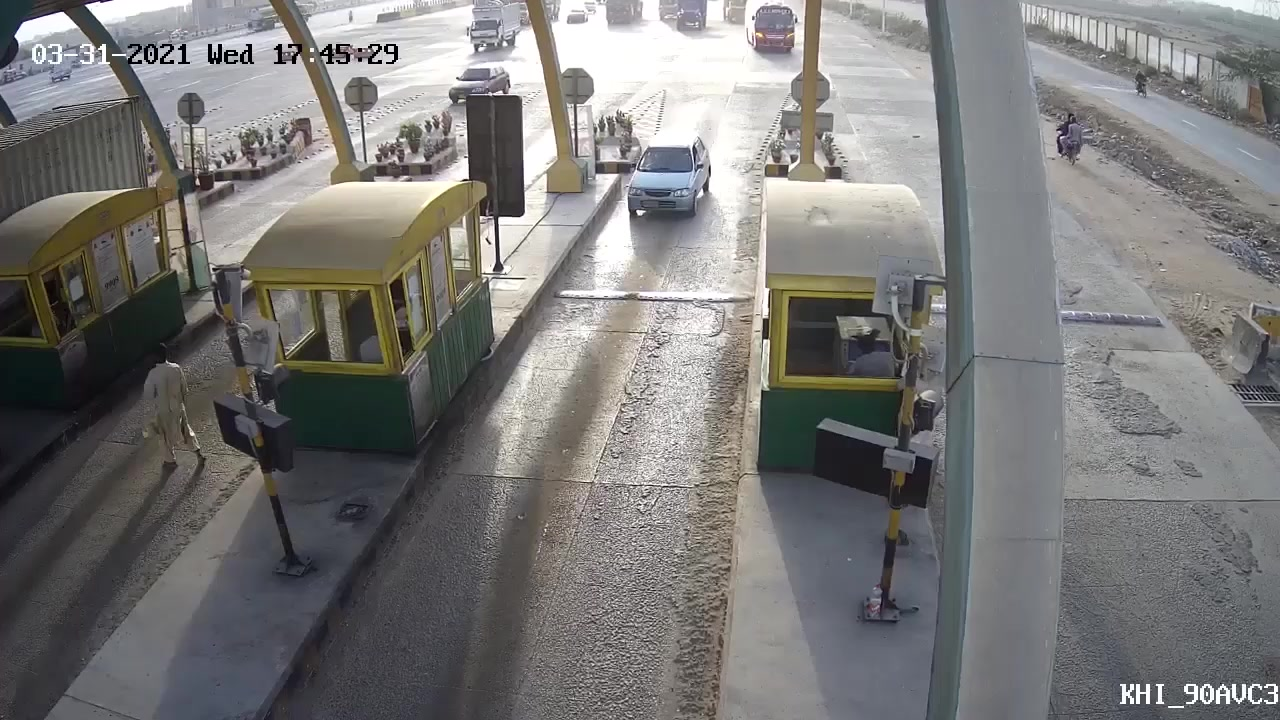F1: (620, 135, 731, 231)
